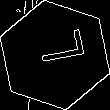L_W: (26, 35, 84, 75)
